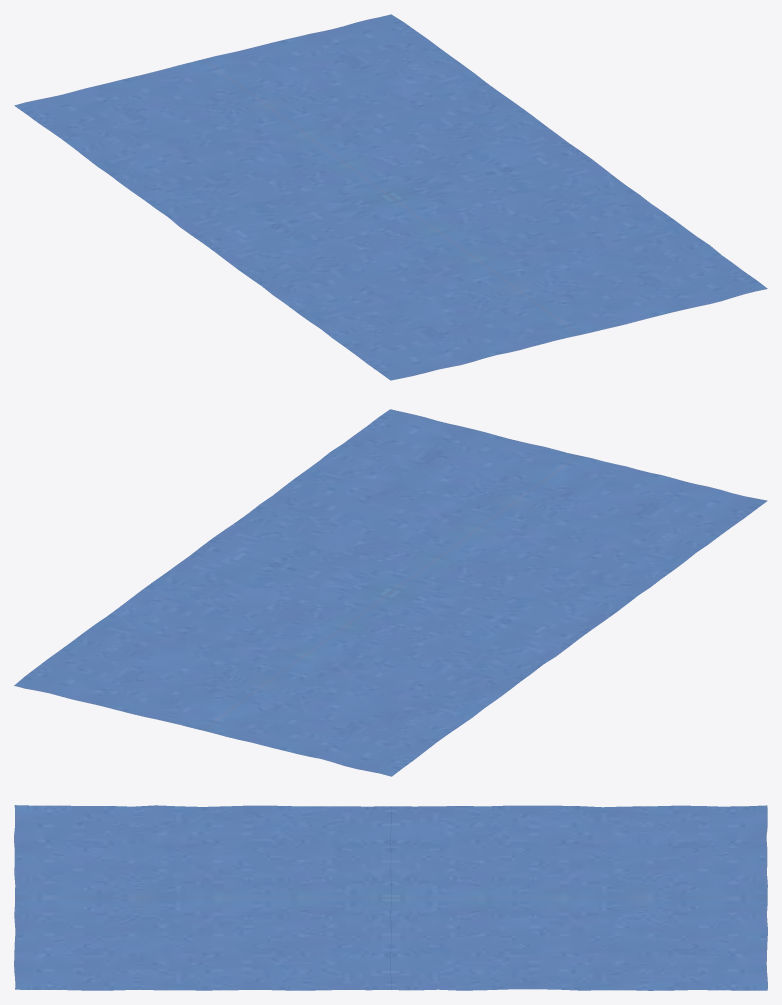
The model's file is agua.glb.
3 renders of one model, top to bottom at view 1: azimuth 30°, elevation 25°; view 2: azimuth 150°, elevation 25°; view 3: azimuth 270°, elevation 25°, orthographic.
Parts seen in each view (by area): view 1: water; view 2: water; view 3: water.
Boxes of the visible parts, x1=… form: water: x1=14, y1=14, x2=767, y2=380; water: x1=14, y1=409, x2=767, y2=776; water: x1=14, y1=805, x2=767, y2=990.
Bounding box in the file's own units: 22080 × 110 × 38067.
Materials: 1 (1 with a texture image).
